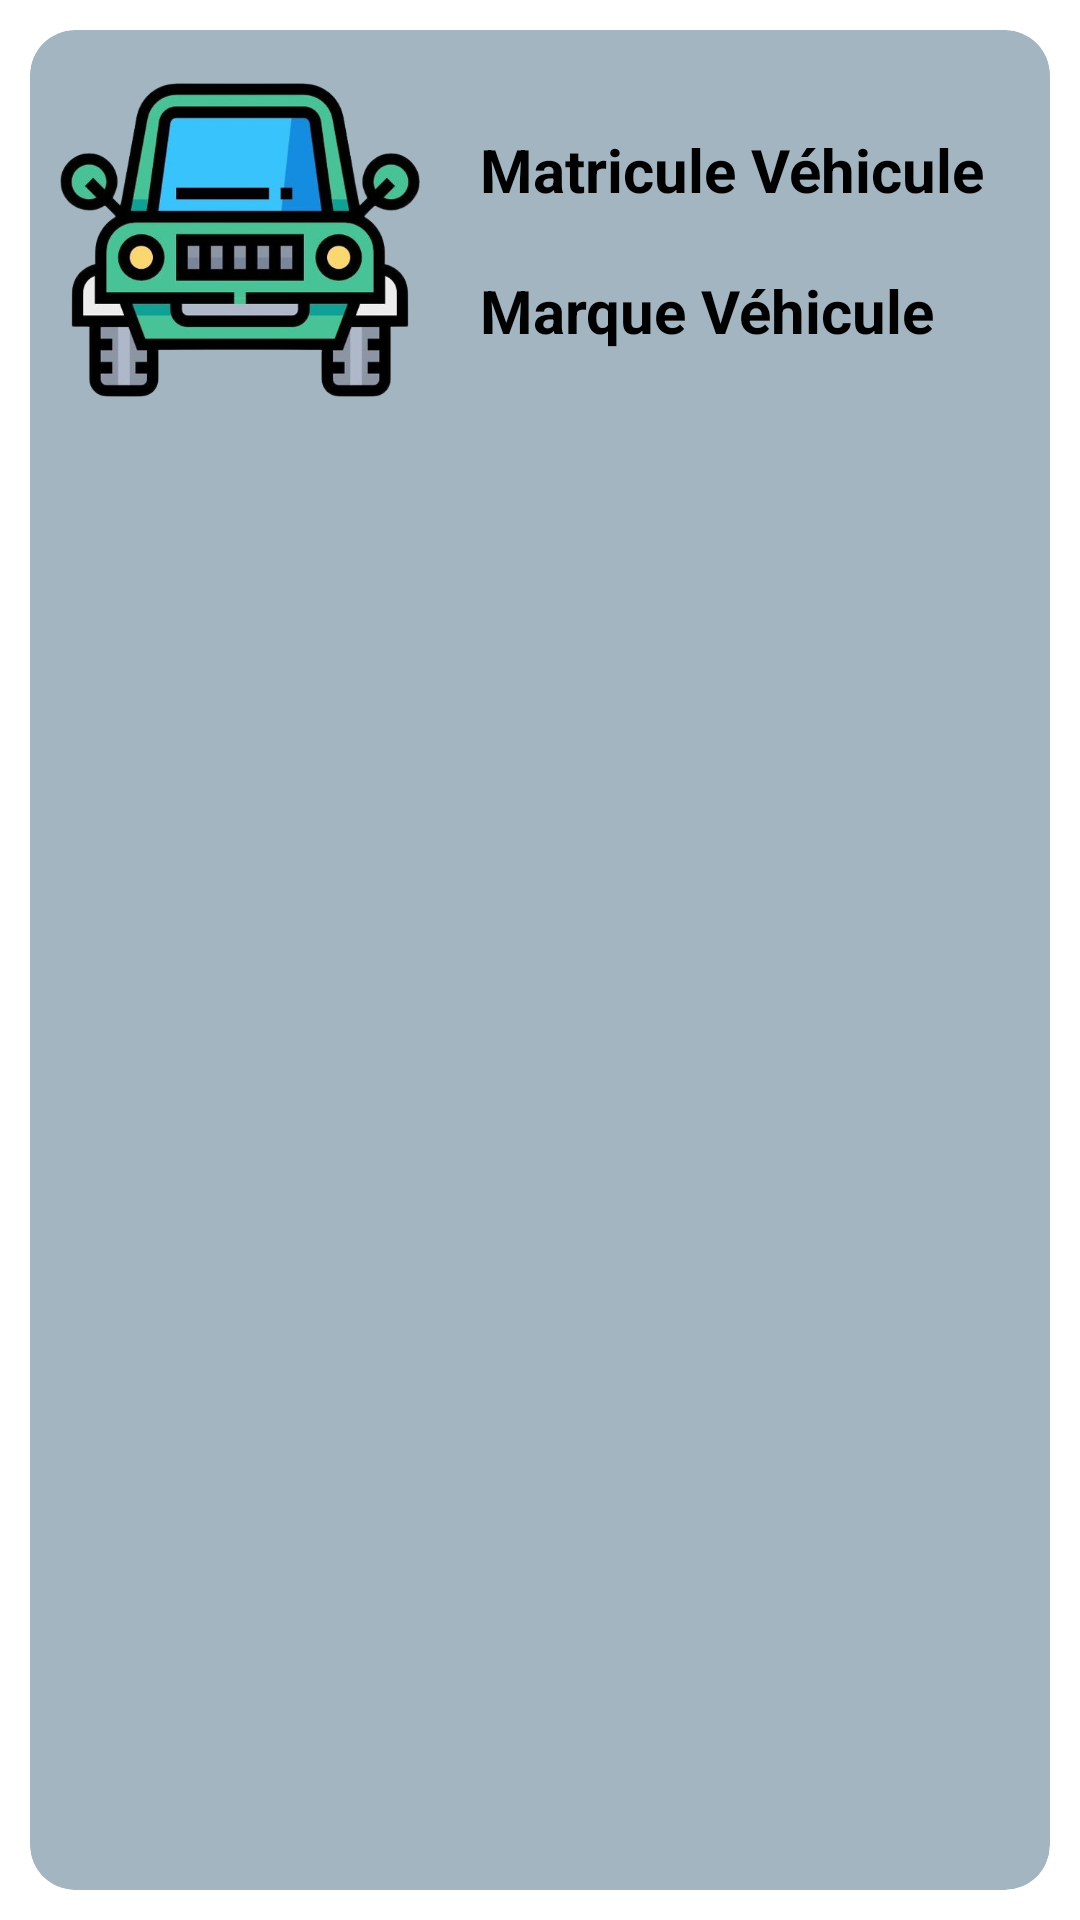

Named icons in this screenshot (1080w x 1920h) and their bounding boxes, rect(x1, y1, x2, y2):
vehicule item: rect(60, 83, 420, 397)
